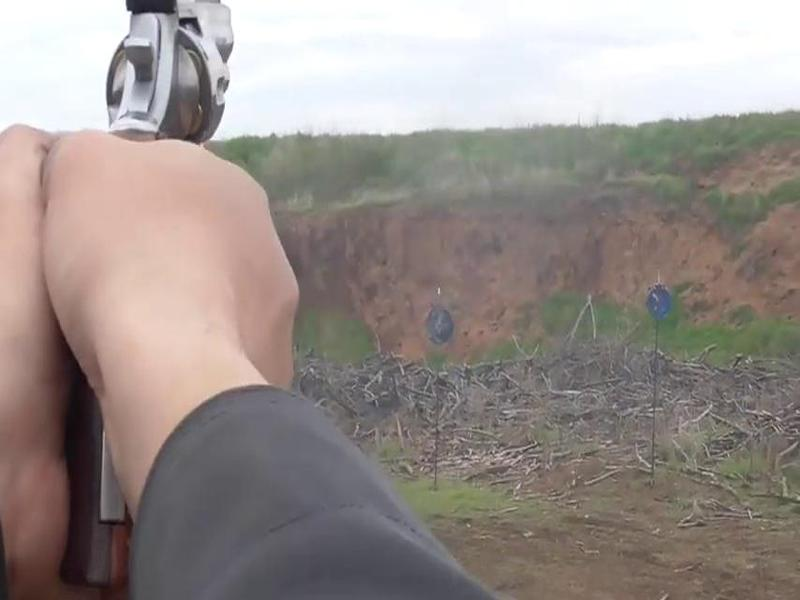Revolver: (93, 1, 276, 171)
